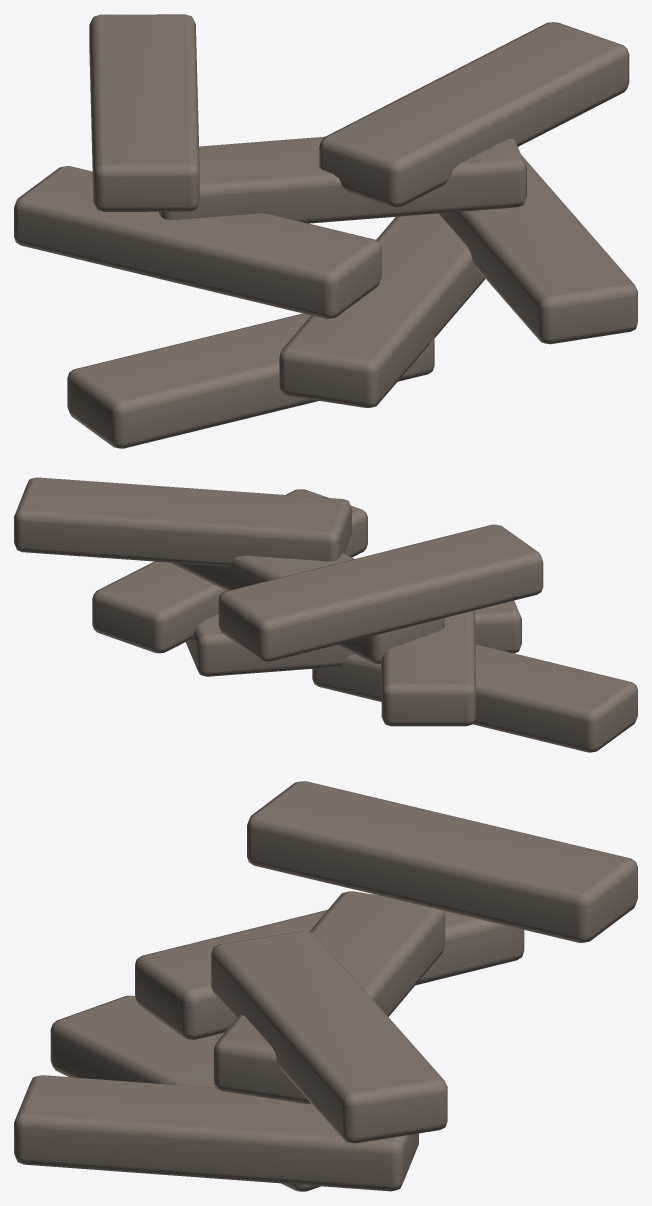
File: item-metal-fragments.glb
The picture shows the model from 3 angles, top to bottom: view 1: azimuth 30°, elevation 25°; view 2: azimuth 150°, elevation 25°; view 3: azimuth 270°, elevation 25°; orthographic projection. The views are drawn at different scales.
Parts seen in each view (by area): view 1: metal-fragments surfaces; view 2: metal-fragments surfaces; view 3: metal-fragments surfaces.
Boxes of the visible parts, box(x1,y1,x2,y2) form: metal-fragments surfaces: box(14, 14, 637, 448); metal-fragments surfaces: box(14, 477, 637, 752); metal-fragments surfaces: box(14, 781, 637, 1191).
Size of the model in its own units: 0.5223 by 0.19 by 0.4418.
